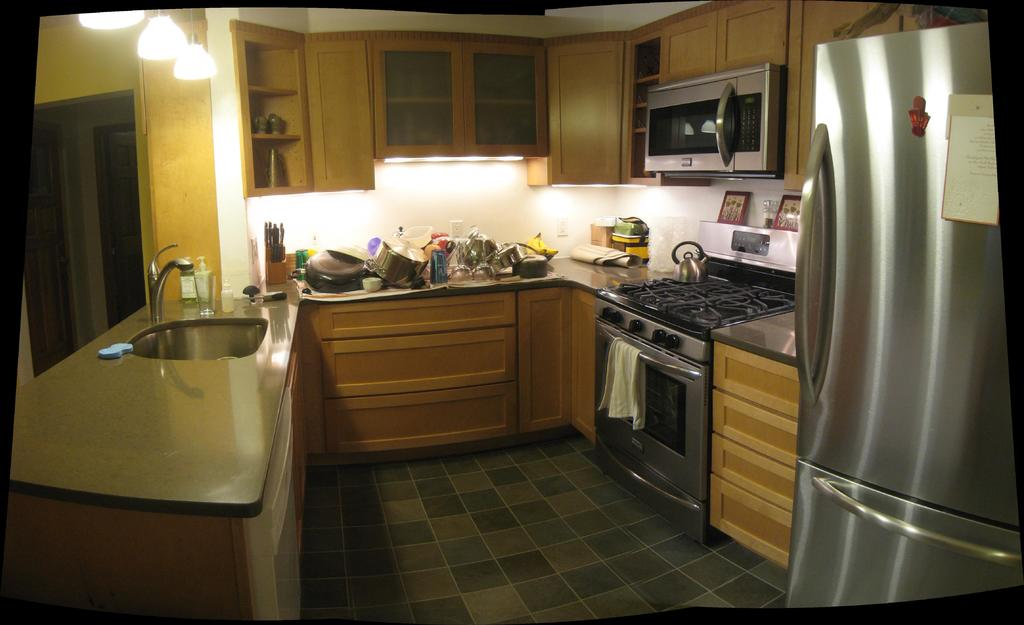cabinet door: (367, 33, 456, 155), (459, 41, 552, 152), (302, 42, 369, 194), (322, 391, 518, 440), (553, 47, 621, 181), (323, 339, 514, 386), (518, 296, 572, 423), (322, 304, 515, 328), (717, 440, 792, 499), (722, 492, 788, 555), (719, 12, 798, 64), (724, 398, 801, 448), (718, 353, 793, 398), (664, 25, 730, 68)
handle: (814, 476, 1024, 565), (794, 130, 839, 400), (598, 329, 708, 391), (710, 83, 739, 163)
refrigerator door: (817, 50, 1024, 479), (790, 487, 1010, 609)
